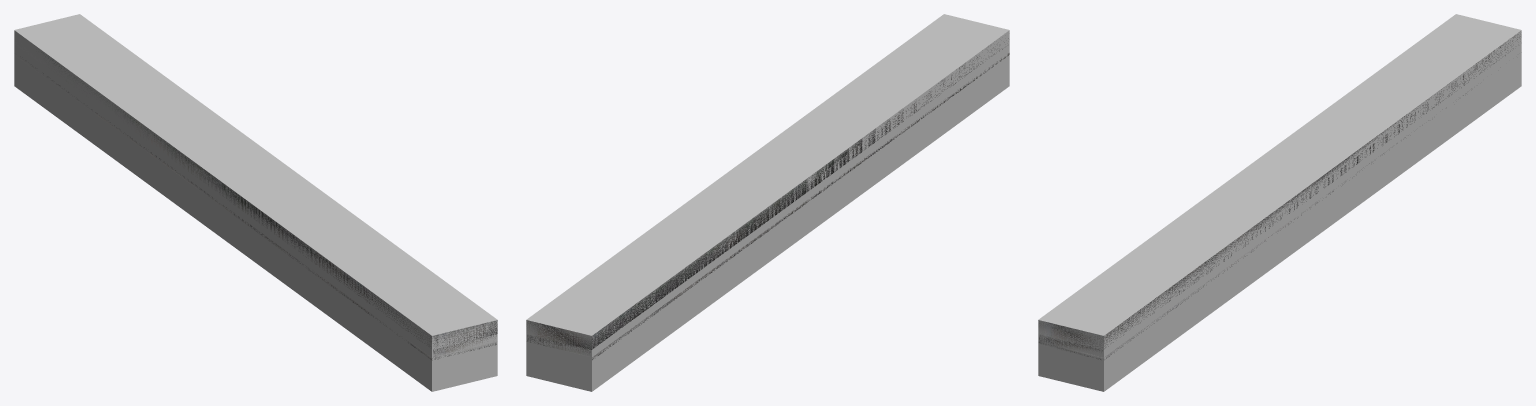
Rendered from flourescent_light.DAE.
3 views of the same model, side by side, from view 1: azimuth 30°, elevation 25°; view 2: azimuth 150°, elevation 25°; view 3: azimuth 330°, elevation 25° (orthographic).
Visible parts, largest first — view 1: bounds, flourescent_light_one100; view 2: bounds, flourescent_light_one100; view 3: bounds, flourescent_light_one100.
Part boxes in pixels (x1,y1,x2,y2): bounds: (14,14,497,391); flourescent_light_one100: (14,31,497,360); bounds: (526,14,1009,391); flourescent_light_one100: (526,38,1009,359); bounds: (1038,14,1521,391); flourescent_light_one100: (1038,34,1521,359).
Size of the model in its own units: 16.63 by 183 by 13.55.
